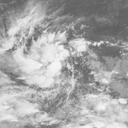cyclone: (17, 34, 73, 90)
